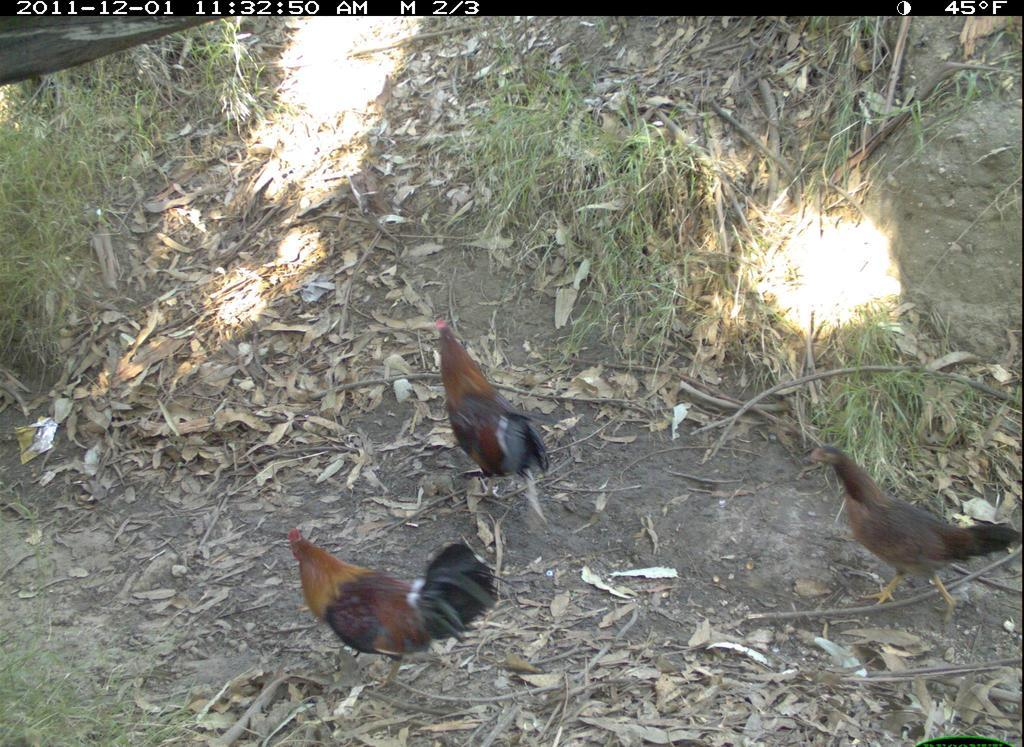bird: (281, 523, 521, 705), (806, 432, 1023, 617), (429, 315, 557, 513)
